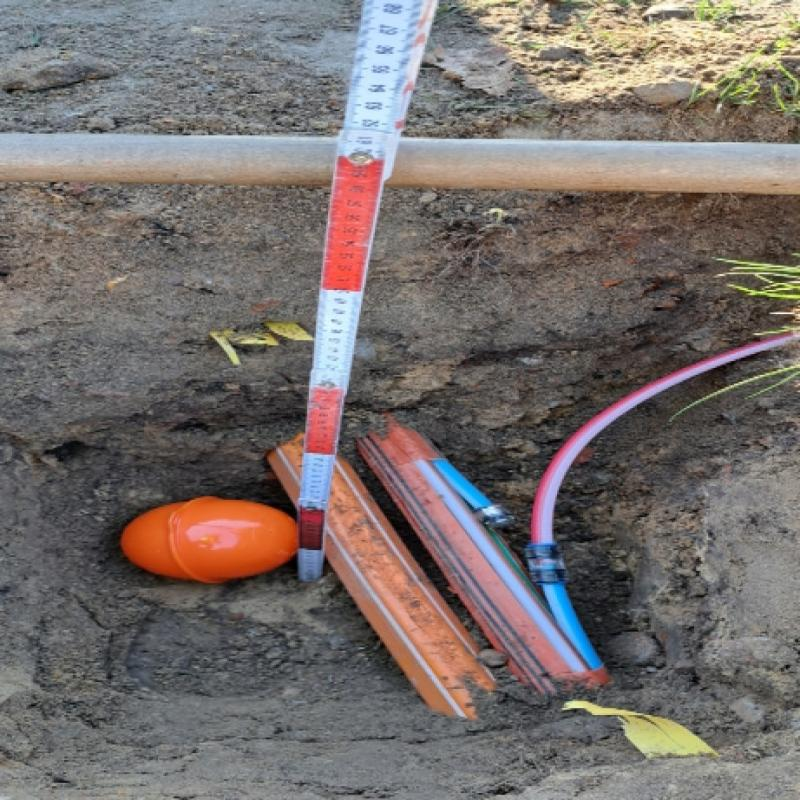Kugelmarker: (121, 500, 299, 581)
Orang-Speednetrohrchen: (268, 433, 487, 714), (363, 429, 608, 674)
